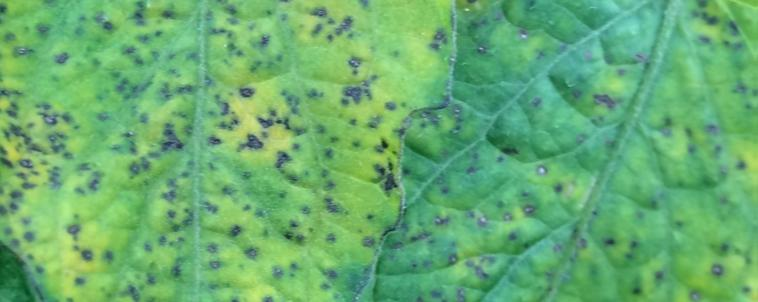Tomato Septoria leaf spot: (278, 0, 758, 302), (0, 0, 461, 302)
